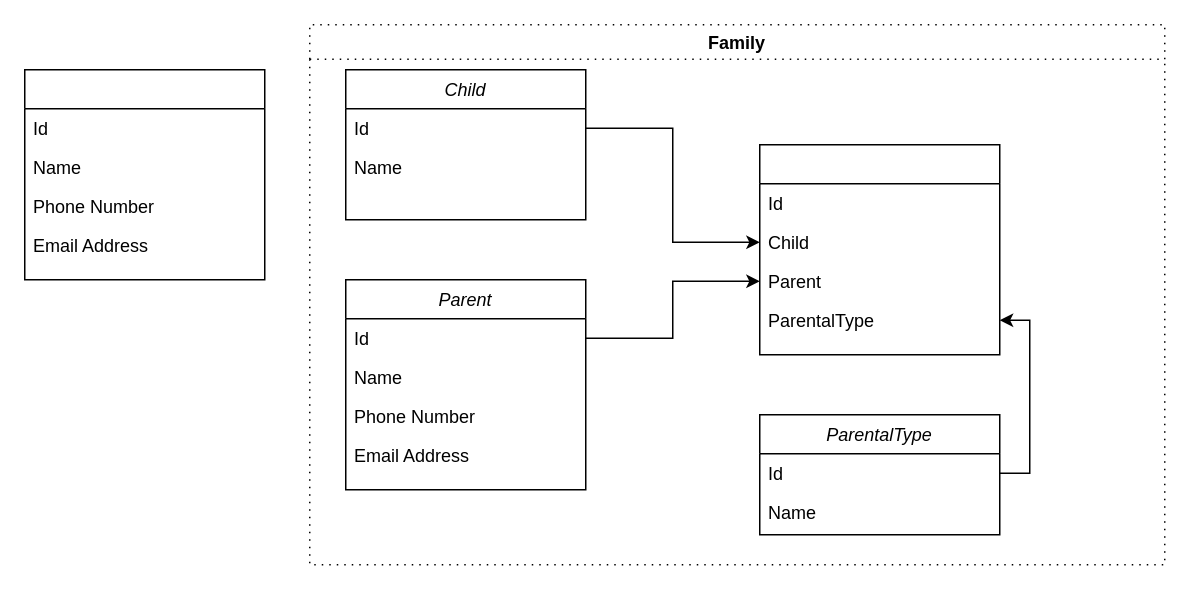
The diagram is 1190 pixels wide and 590 high, and some of its shapes have lost their labels. The shapes that lost their labels are listed below. From the top down, each one's box as (x1, y1, x2, y2) in pixels, then its label:
(23, 68, 265, 280): Therapist
(758, 143, 1000, 355): ParentsOfChild
